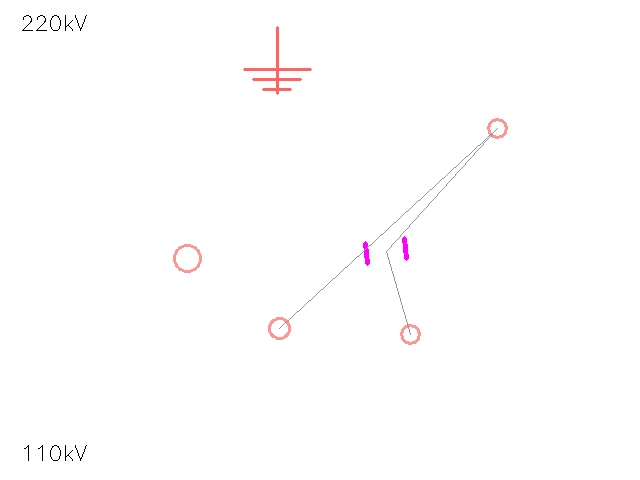capacitor: (353, 218, 419, 284)
feeder_terminal: (258, 307, 300, 349)
fuse: (161, 232, 213, 284)
ground: (244, 27, 310, 93)
reactor: (392, 316, 428, 352)
voltage_transformer: (479, 110, 515, 146)
